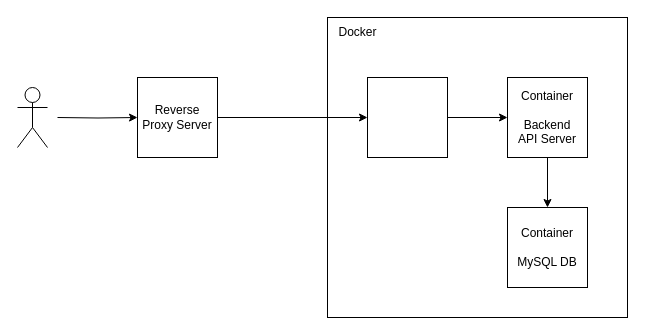
Some shapes in this 645 by 335 pixel diagram are drawn without their labels. Here are the shapes that lost their labels. From the top down, the centre of each, then its label:
[32,117]: Client
[407,117]: Container Frontend Website
